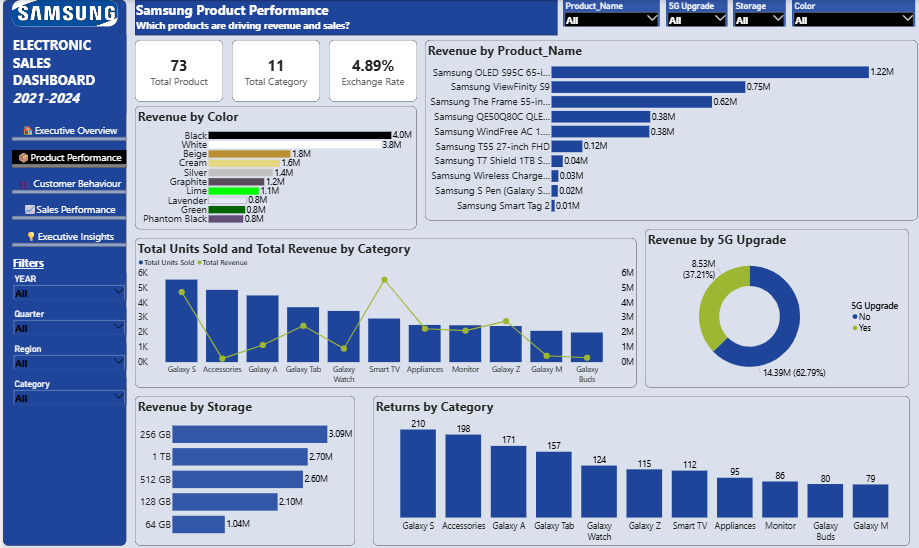

Layout of this report page (visuals, bound fields, positions):
{"tool":"powerbi","page":{"name":"📦Product Performance","canvas":[5000,3000],"ordinal":1},"visuals":[{"type":"textbox","box":[720,0,2304,192],"z":0},{"type":"card","fields":{"Values":["My Measures.Total Product"]},"box":[720,216,480,336],"z":1000},{"type":"card","fields":{"Values":["My Measures.Total Category"]},"box":[1248,216,480,336],"z":2000},{"type":"card","fields":{"Values":["My Measures.Exchange Rate"]},"box":[1776,216,480,336],"z":3000},{"type":"clusteredColumnChart","title":"Returns by Category","fields":{"Category":["SALES.Category"],"Y":["My Measures.Returned Sales"]},"box":[2016,2160,2928,816],"z":4000},{"type":"clusteredBarChart","title":"Revenue by Product_Name","fields":{"Category":["SALES.Product_Name"],"Y":["My Measures.Total Revenue"]},"box":[2304,216,2688,984],"z":5000},{"type":"lineStackedColumnComboChart","fields":{"Category":["SALES.Category"],"Y":["My Measures.Total Units Sold"],"Y2":["My Measures.Total Revenue"]},"box":[720,1296,2736,816],"z":6000},{"type":"clusteredBarChart","title":"Revenue by Storage","fields":{"Category":["SALES.Storage"],"Y":["My Measures.Total Revenue"]},"box":[720,2160,1200,816],"z":7000},{"type":"clusteredBarChart","title":"Revenue by Color","fields":{"Category":["SALES.Color"],"Y":["My Measures.Total Revenue"]},"box":[720,576,1536,672],"z":8000},{"type":"donutChart","title":"Revenue by 5G Upgrade","fields":{"Y":["My Measures.Total Revenue"],"Category":["SALES.5G Upgrade"]},"box":[3504,1248,1440,864],"z":9000},{"type":"shape","box":[0,0,672,2976],"z":10000},{"type":"textbox","box":[48,192,624,432],"z":11000},{"type":"actionButton","title":"🏠Executive Overview","box":[48,672,624,96],"z":12000},{"type":"actionButton","title":"📦Product Performance","box":[48,816,624,96],"z":13000},{"type":"actionButton","title":"👥 Customer Behaviour","box":[48,960,624,96],"z":14000},{"type":"actionButton","title":"📈Sales Performance","box":[48,1104,624,96],"z":15000},{"type":"actionButton","title":"💡Executive Insights","box":[48,1248,624,96],"z":16000},{"type":"image","box":[48,0,576,144],"z":17000},{"type":"slicer","fields":{"Values":["Calender.YEAR"]},"box":[48,1488,624,144],"z":18000},{"type":"slicer","fields":{"Values":["Calender.Quarter"]},"box":[48,1680,624,144],"z":19000},{"type":"slicer","fields":{"Values":["SALES.Category"]},"box":[48,2064,624,144],"z":20000},{"type":"slicer","fields":{"Values":["SALES.Region"]},"box":[48,1872,624,144],"z":21000},{"type":"textbox","box":[48,1392,432,96],"z":22000},{"type":"slicer","fields":{"Values":["SALES.Product_Name"]},"box":[3056,0,528,144],"z":23000},{"type":"slicer","fields":{"Values":["SALES.5G Upgrade"]},"box":[3616,0,336,144],"z":24000},{"type":"slicer","fields":{"Values":["SALES.Storage"]},"box":[3984,0,288,144],"z":25000},{"type":"slicer","fields":{"Values":["SALES.Color"]},"box":[4304,0,672,144],"z":26000}]}

Visuals, with their boxes on the page's 5000x3000 design canvas (x1, y1, x2, y2). These are canvas units, not pixel positions in the 919x548 screenshot, which may show the page scaled, cropped or inside an application window:
textbox: detection(720, 0, 3024, 192)
card - My Measures.Total Product: detection(720, 216, 1200, 552)
card - My Measures.Total Category: detection(1248, 216, 1728, 552)
card - My Measures.Exchange Rate: detection(1776, 216, 2256, 552)
"Returns by Category" clusteredColumnChart: detection(2016, 2160, 4944, 2976)
"Revenue by Product_Name" clusteredBarChart: detection(2304, 216, 4992, 1200)
lineStackedColumnComboChart - SALES.Category x My Measures.Total Units Sold: detection(720, 1296, 3456, 2112)
"Revenue by Storage" clusteredBarChart: detection(720, 2160, 1920, 2976)
"Revenue by Color" clusteredBarChart: detection(720, 576, 2256, 1248)
"Revenue by 5G Upgrade" donutChart: detection(3504, 1248, 4944, 2112)
shape: detection(0, 0, 672, 2976)
textbox: detection(48, 192, 672, 624)
"🏠Executive Overview" actionButton: detection(48, 672, 672, 768)
"📦Product Performance" actionButton: detection(48, 816, 672, 912)
"👥 Customer Behaviour" actionButton: detection(48, 960, 672, 1056)
"📈Sales Performance" actionButton: detection(48, 1104, 672, 1200)
"💡Executive Insights" actionButton: detection(48, 1248, 672, 1344)
image: detection(48, 0, 624, 144)
slicer - Calender.YEAR: detection(48, 1488, 672, 1632)
slicer - Calender.Quarter: detection(48, 1680, 672, 1824)
slicer - SALES.Category: detection(48, 2064, 672, 2208)
slicer - SALES.Region: detection(48, 1872, 672, 2016)
textbox: detection(48, 1392, 480, 1488)
slicer - SALES.Product_Name: detection(3056, 0, 3584, 144)
slicer - SALES.5G Upgrade: detection(3616, 0, 3952, 144)
slicer - SALES.Storage: detection(3984, 0, 4272, 144)
slicer - SALES.Color: detection(4304, 0, 4976, 144)
